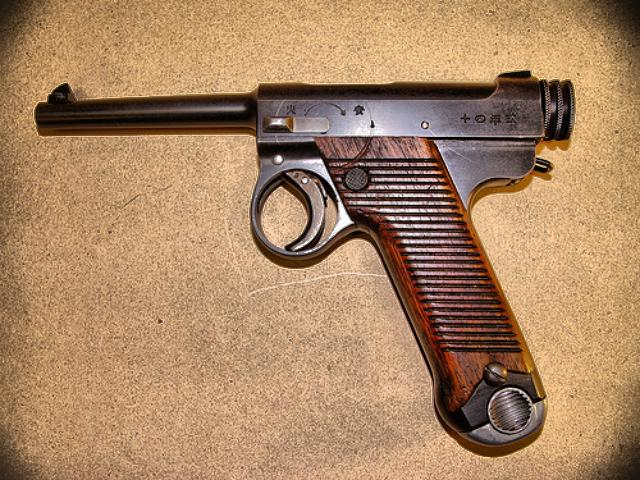pistol: (32, 64, 574, 454)
